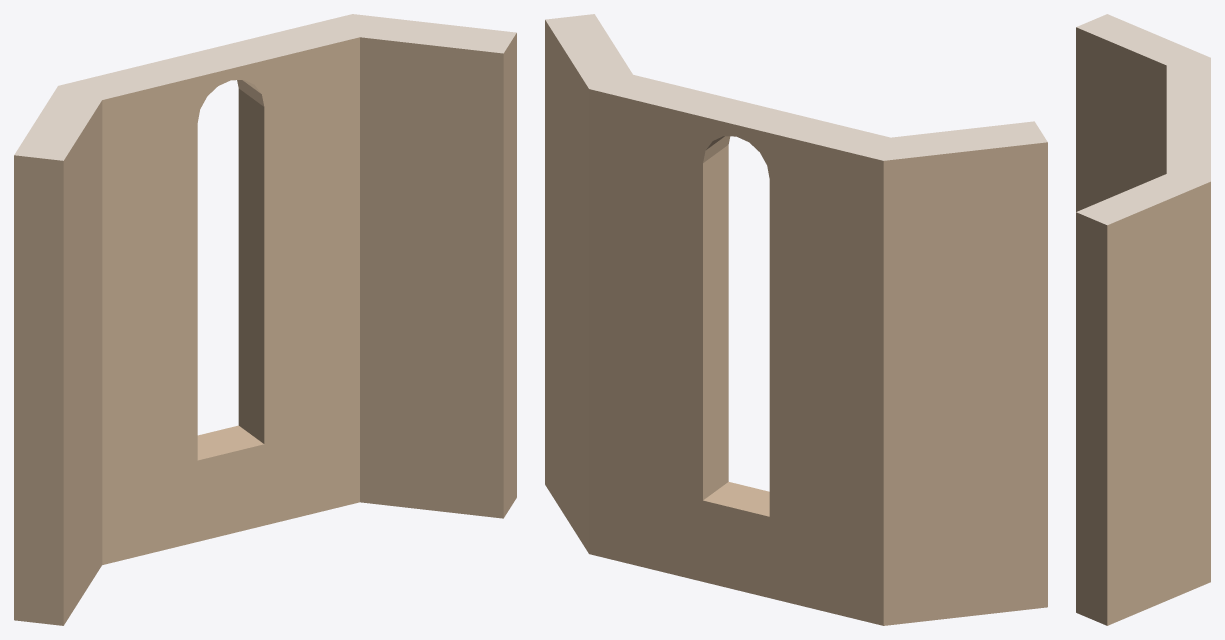
File: Tower_Wall_Tall_Window.fbx
3 renders of one model, left to right at view 1: azimuth 30°, elevation 25°; view 2: azimuth 150°, elevation 25°; view 3: azimuth 270°, elevation 25°, orthographic. The views are drawn at different scales.
Parts seen in each view (by area): view 1: Sandstone_Trim.object1, Sandstone_Floor; view 2: Sandstone_Trim.object1, Sandstone_Floor; view 3: Sandstone_Trim.object1, Sandstone_Floor.
Boxes of the visible parts, x1=… form: Sandstone_Trim.object1: x1=14, y1=33, x2=516, y2=625; Sandstone_Floor: x1=14, y1=14, x2=516, y2=160; Sandstone_Trim.object1: x1=545, y1=20, x2=1047, y2=625; Sandstone_Floor: x1=545, y1=14, x2=1047, y2=160; Sandstone_Trim.object1: x1=1076, y1=27, x2=1210, y2=625; Sandstone_Floor: x1=1076, y1=14, x2=1210, y2=225.
Bounding box in the file's own units: 2.26 × 2 × 0.6101.
